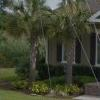Palm tree: (25, 1, 83, 75)
